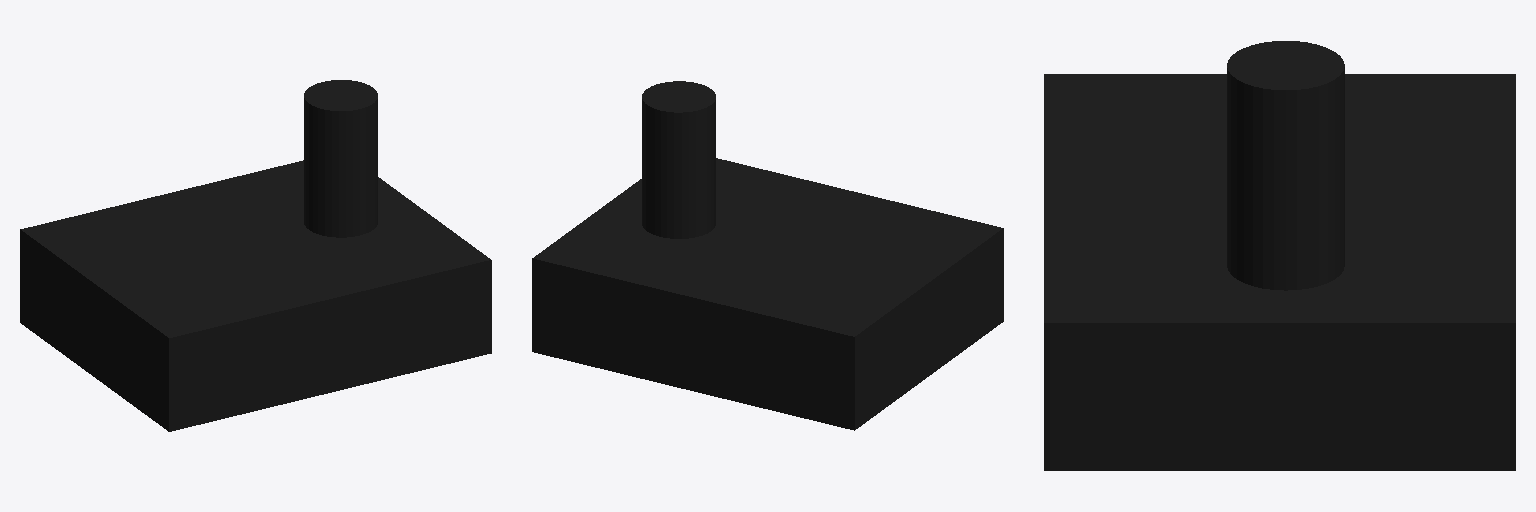
URDF robot description (mobile_base):
<?xml version="1.0" encoding="utf-8"?>
<!-- Simplified version of mobile base for use in kinematic-only simulations. -->
<robot name="mobile_base">
  <material name="black">
    <color rgba="0.15 0.15 0.15 1.0"/>
  </material>

  <link name="base_link"/>

  <joint name="base_link_joint" type="fixed">
    <origin rpy="0 0 0" xyz="0 0 0.139"/>
    <parent link="base_link"/>
    <child link="chassis_link"/>
  </joint>

  <link name="chassis_link">
    <visual>
      <origin rpy="0 0 0" xyz="0 0 0"/>
      <geometry>
        <box size="1 0.8 0.278"/>
      </geometry>
      <material name="black"/>
    </visual>

    <visual>
      <origin rpy="0 0 0" xyz="0.27 0.01 0.3265"/>
      <geometry>
        <cylinder length="0.375" radius="0.1"/>
      </geometry>
      <material name="black"/>
    </visual>

    <collision>
      <origin rpy="0 0 0" xyz="0 0 0"/>
      <geometry>
        <box size="1 1 0.278"/>
      </geometry>
    </collision>

    <inertial>
      <origin rpy="0 0 0" xyz="0 0 0"/>
      <mass value="165.304"/>
      <inertia ixx="4.4744" ixy="0.03098" ixz="0.003647" iyy="7.1624" iyz="0.1228" izz="4.6155"/>
    </inertial>
  </link>

</robot>

--- Render facts (derived) ---
Views: 3 orthographic renders of the robot side by side, from view 1: azimuth 30°, elevation 25°; view 2: azimuth 150°, elevation 25°; view 3: azimuth 270°, elevation 25°.
Robot: mobile_base — 2 links, 1 joints (1 fixed); root link base_link; default pose: every joint at zero.
Links seen in each view (by area): view 1: chassis_link; view 2: chassis_link; view 3: chassis_link.
Boxes of the visible links, <box> form: chassis_link: <box>20,80,491,431</box>; chassis_link: <box>532,81,1003,430</box>; chassis_link: <box>1044,41,1515,470</box>.
Size in the robot's own frame: 1 by 0.8 by 0.653 metres.
Geometry: primitives only (box / cylinder / sphere), no mesh files.